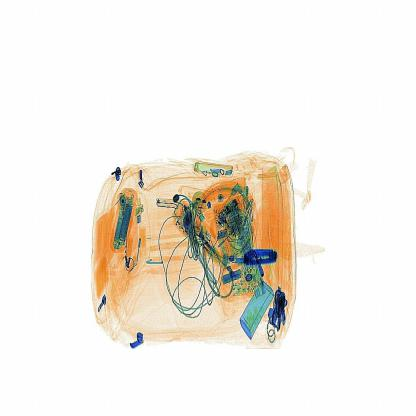scissors: (237, 240, 284, 274)
